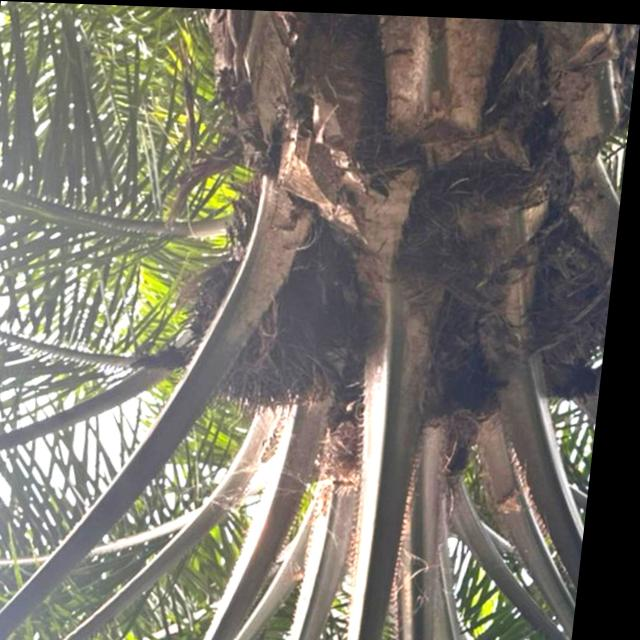almost: (185, 264, 343, 412)
